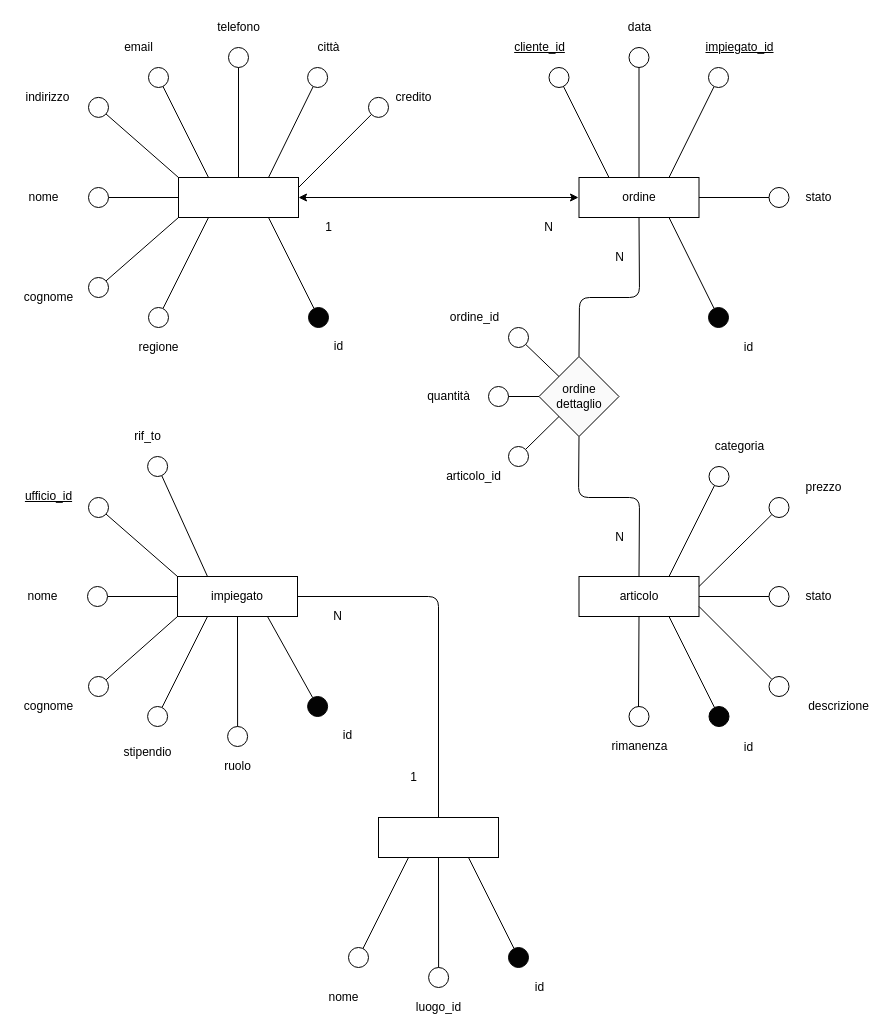
This 895x1034 diagram has some shape labels left out. The centre of each missing label's shape, as x and y in pixels:
cliente: pixel 238 197
ufficio: pixel 438 837
